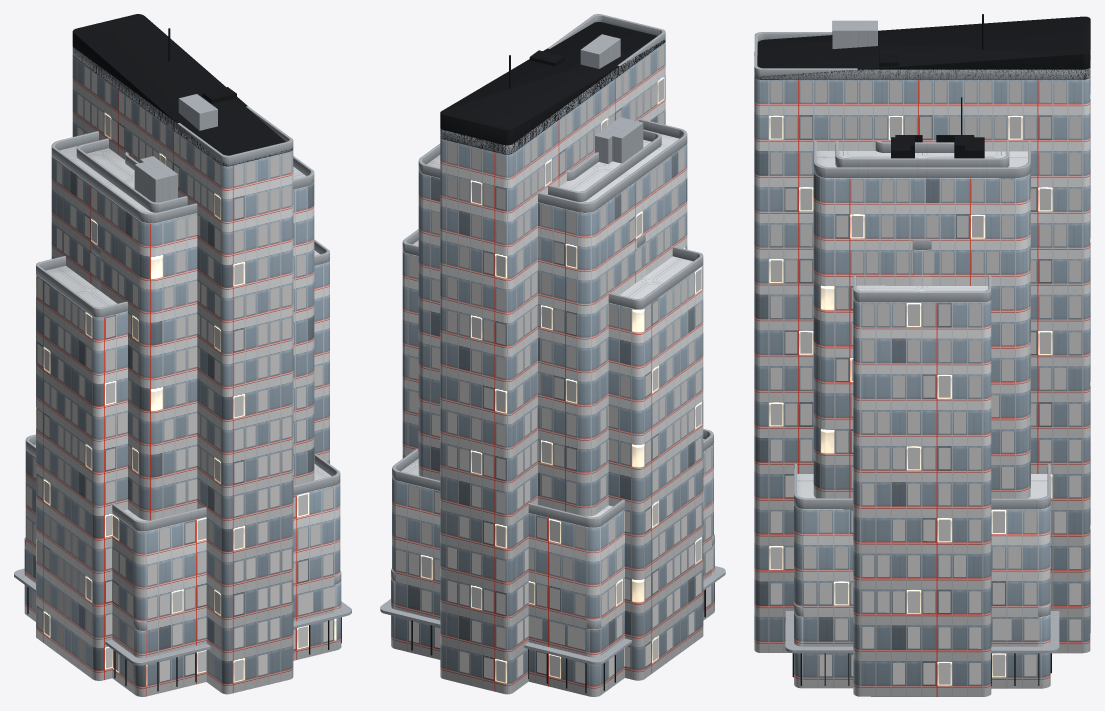
The model's file is SM_ME_Skylines_v3.fbx.
3 renders of one model, left to right at view 1: azimuth 30°, elevation 25°; view 2: azimuth 150°, elevation 25°; view 3: azimuth 270°, elevation 25°, orthographic. The views are drawn at different scales.
Parts seen in each view (by area): view 1: SM_ME_TowerBlade_v1, SM_ME_TowerCham_v1, SM_ME_SlabRC_v1, SM_ME_TowerStep_v1, SM_ME_TowerBlade_v1_WinDusk, SM_ME_SlabRC_v1_WinDusk, SM_ME_TowerCham_v1_WinDusk, SM_ME_TowerStep_v1_WinDusk, SM_ME_Podium_v1, SM_ME_TowerDS_v1, SM_ME_TowerBlade_v1_WinDay, SM_ME_TowerStep_v1_WinDay (+1 smaller); view 2: SM_ME_TowerBlade_v1, SM_ME_TowerCham_v1, SM_ME_SlabRC_v1, SM_ME_TowerStep_v1, SM_ME_TowerBlade_v1_WinDusk, SM_ME_SlabRC_v1_WinDusk, SM_ME_TowerCham_v1_WinDusk, SM_ME_TowerStep_v1_WinDusk, SM_ME_Podium_v1, SM_ME_TowerDS_v1, SM_ME_TowerBlade_v1_WinDay, SM_ME_TowerCham_v1_WinDay (+2 smaller); view 3: SM_ME_TowerBlade_v1, SM_ME_SlabRC_v1, SM_ME_TowerCham_v1, SM_ME_TowerBlade_v1_WinDusk, SM_ME_TowerStep_v1, SM_ME_SlabRC_v1_WinDusk, SM_ME_TowerCham_v1_WinDusk, SM_ME_TowerStep_v1_WinDusk, SM_ME_Podium_v1, SM_ME_TowerBlade_v1_WinDay, SM_ME_TowerDS_v1, SM_ME_SlabRC_v1_WinDay (+3 smaller).
Boxes of the visible parts, bbox=[...] form: SM_ME_TowerBlade_v1: bbox=[72, 14, 293, 694]; SM_ME_TowerCham_v1: bbox=[51, 131, 314, 520]; SM_ME_SlabRC_v1: bbox=[36, 239, 329, 680]; SM_ME_TowerStep_v1: bbox=[25, 152, 340, 696]; SM_ME_TowerBlade_v1_WinDusk: bbox=[77, 66, 291, 675]; SM_ME_SlabRC_v1_WinDusk: bbox=[37, 277, 322, 661]; SM_ME_TowerCham_v1_WinDusk: bbox=[57, 162, 305, 505]; SM_ME_TowerStep_v1_WinDusk: bbox=[26, 457, 332, 681]; SM_ME_Podium_v1: bbox=[14, 537, 351, 696]; SM_ME_TowerDS_v1: bbox=[76, 138, 187, 212]; SM_ME_TowerBlade_v1_WinDay: bbox=[105, 114, 243, 681]; SM_ME_TowerStep_v1_WinDay: bbox=[113, 494, 307, 672]; SM_ME_TowerBlade_v1: bbox=[440, 14, 665, 694]; SM_ME_TowerCham_v1: bbox=[418, 117, 687, 516]; SM_ME_SlabRC_v1: bbox=[402, 229, 703, 680]; SM_ME_TowerStep_v1: bbox=[392, 152, 713, 695]; SM_ME_TowerBlade_v1_WinDusk: bbox=[447, 45, 663, 679]; SM_ME_SlabRC_v1_WinDusk: bbox=[409, 256, 701, 667]; SM_ME_TowerCham_v1_WinDusk: bbox=[432, 148, 684, 503]; SM_ME_TowerStep_v1_WinDusk: bbox=[396, 448, 711, 683]; SM_ME_Podium_v1: bbox=[380, 534, 725, 696]; SM_ME_TowerDS_v1: bbox=[548, 129, 661, 201]; SM_ME_TowerBlade_v1_WinDay: bbox=[472, 78, 663, 682]; SM_ME_TowerCham_v1_WinDay: bbox=[542, 213, 641, 463]; SM_ME_TowerBlade_v1: bbox=[754, 14, 1090, 653]; SM_ME_SlabRC_v1: bbox=[853, 276, 991, 696]; SM_ME_TowerCham_v1: bbox=[813, 97, 1030, 498]; SM_ME_TowerBlade_v1_WinDusk: bbox=[770, 63, 1090, 640]; SM_ME_TowerStep_v1: bbox=[794, 135, 1050, 688]; SM_ME_SlabRC_v1_WinDusk: bbox=[862, 304, 981, 684]; SM_ME_TowerCham_v1_WinDusk: bbox=[836, 180, 1030, 488]; SM_ME_TowerStep_v1_WinDusk: bbox=[804, 511, 1036, 676]; SM_ME_Podium_v1: bbox=[785, 603, 1059, 688]; SM_ME_TowerBlade_v1_WinDay: bbox=[770, 99, 1090, 568]; SM_ME_TowerDS_v1: bbox=[835, 135, 1009, 167]; SM_ME_SlabRC_v1_WinDay: bbox=[908, 304, 950, 684].
Size of the model in its own units: 3000 by 3401 by 7000.
